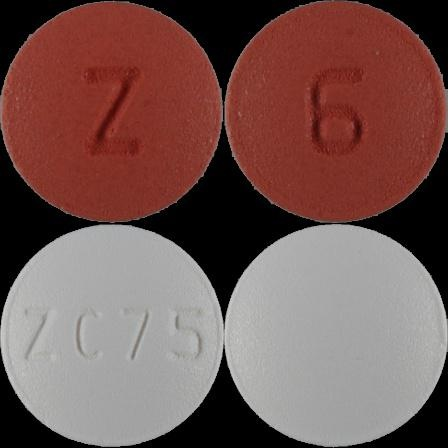68382-113: (0, 0, 224, 224)
